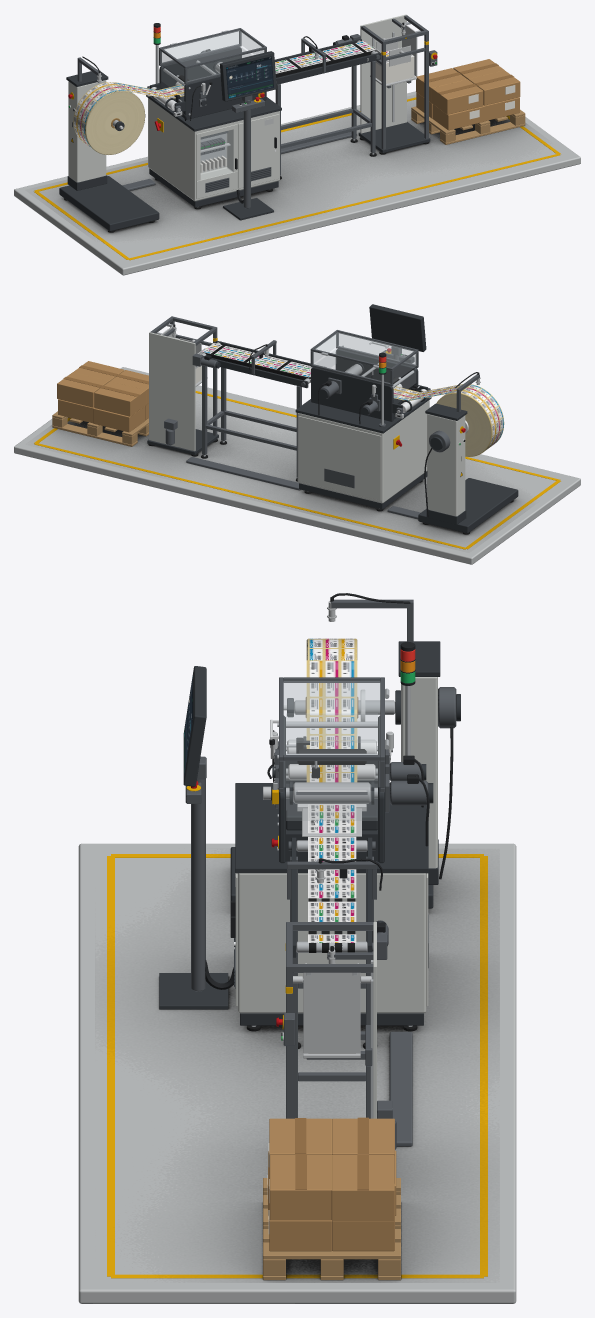
The model's file is sheeter.glb.
The picture shows the model from 3 angles, top to bottom: view 1: azimuth 30°, elevation 25°; view 2: azimuth 150°, elevation 25°; view 3: azimuth 270°, elevation 25°; orthographic projection. The views are drawn at different scales.
Visible parts, largest first — view 1: socle, bati_tole_anthracite, palette_carton_ondule, bati_caisse, rotatif_1, derouleur_tole_anthracite, bati_tole_gris_clair, coupe_polycarbonate, emp_dos, convoyeur_graphite, derouleur_colonne, empileur_graphite (+14 smaller); view 2: socle, bati_tole_anthracite, bati_tole_gris_clair, emp_dos, palette_carton_ondule, bati_caisse, derouleur_colonne, coupe_polycarbonate, derouleur_tole_anthracite, convoyeur_graphite, rotatif_1, pupitre_tole_anthracite (+10 smaller); view 3: socle, bati_caisse, palette_carton_ondule, coupe_polycarbonate, bande, bati_tole_anthracite, empileur_inox_brosse, empileur_graphite, pupitre_tole_anthracite, convoyeur_graphite, derouleur_colonne, palette_bois_palette (+11 smaller).
Boxes of the visible parts, x1,y1,x2,y2 form: socle: (14,91,580,275); bati_tole_anthracite: (146,47,281,207); palette_carton_ondule: (416,59,520,130); bati_caisse: (148,98,279,201); rotatif_1: (73,82,145,154); derouleur_tole_anthracite: (59,69,159,231); bati_tole_gris_clair: (196,114,279,198); coupe_polycarbonate: (161,30,264,96); emp_dos: (360,14,406,133); convoyeur_graphite: (275,34,380,175); derouleur_colonne: (68,80,106,182); empileur_graphite: (361,15,437,149); socle: (14,367,580,564); bati_tole_anthracite: (295,348,431,509); bati_tole_gris_clair: (298,416,381,500); emp_dos: (149,332,195,451); palette_carton_ondule: (57,361,148,432); bati_caisse: (297,400,429,503); derouleur_colonne: (427,414,465,516); coupe_polycarbonate: (313,332,416,398); derouleur_tole_anthracite: (418,403,518,533); convoyeur_graphite: (192,340,305,477); rotatif_1: (436,384,504,456); pupitre_tole_anthracite: (369,304,426,351); socle: (78,843,516,1303); bati_caisse: (237,873,426,1013); palette_carton_ondule: (268,1118,396,1251); coupe_polycarbonate: (283,681,380,820); bande: (306,660,357,942); bati_tole_anthracite: (234,715,428,1025); empileur_inox_brosse: (293,963,371,1058); empileur_graphite: (283,922,396,1149); pupitre_tole_anthracite: (159,666,228,1009); convoyeur_graphite: (287,841,388,1118); derouleur_colonne: (401,677,437,868); palette_bois_palette: (263,1178,400,1280).
Bounding box in the file's own units: 4.6 × 1.56 × 1.9.
Materials: 31 (8 with a texture image).
